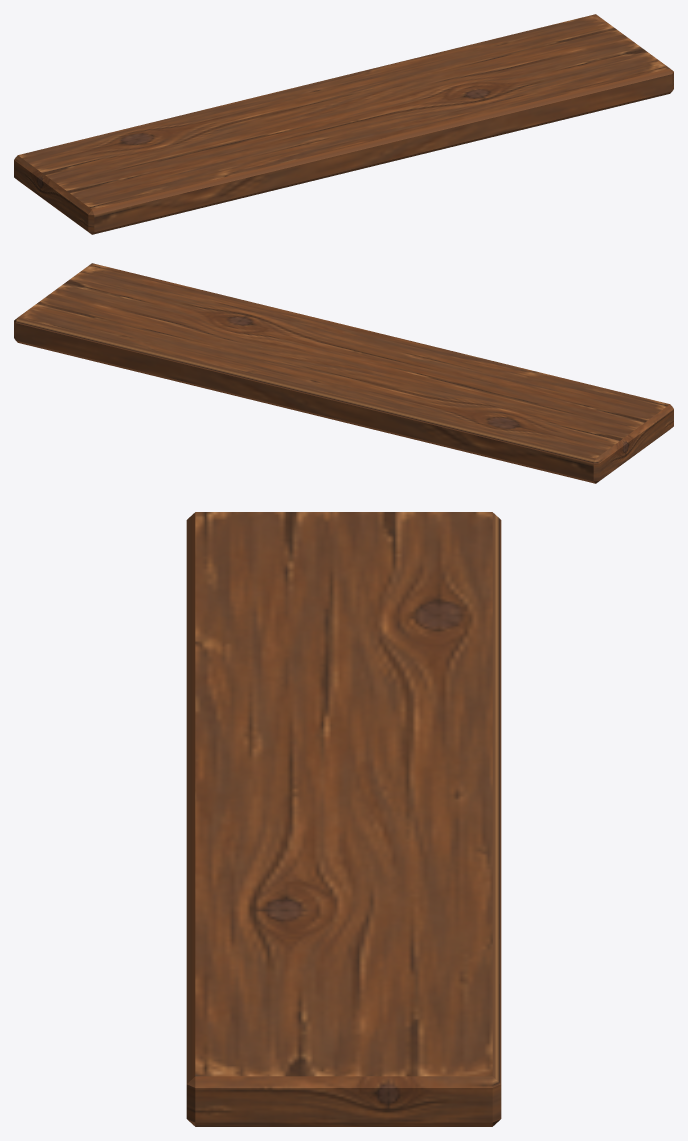
Rendered from wooden_bar_01.fbx.
3 renders of one model, top to bottom at view 1: azimuth 30°, elevation 25°; view 2: azimuth 150°, elevation 25°; view 3: azimuth 270°, elevation 25°, orthographic. The views are drawn at different scales.
Parts seen in each view (by area): view 1: wooden_bar_01; view 2: wooden_bar_01; view 3: wooden_bar_01.
Boxes of the visible parts, <box> form: wooden_bar_01: <box>14,14,673,234</box>; wooden_bar_01: <box>14,263,673,483</box>; wooden_bar_01: <box>186,512,501,1126</box>.
Bounding box in the file's own units: 3.77 × 0.1553 × 0.8775.
